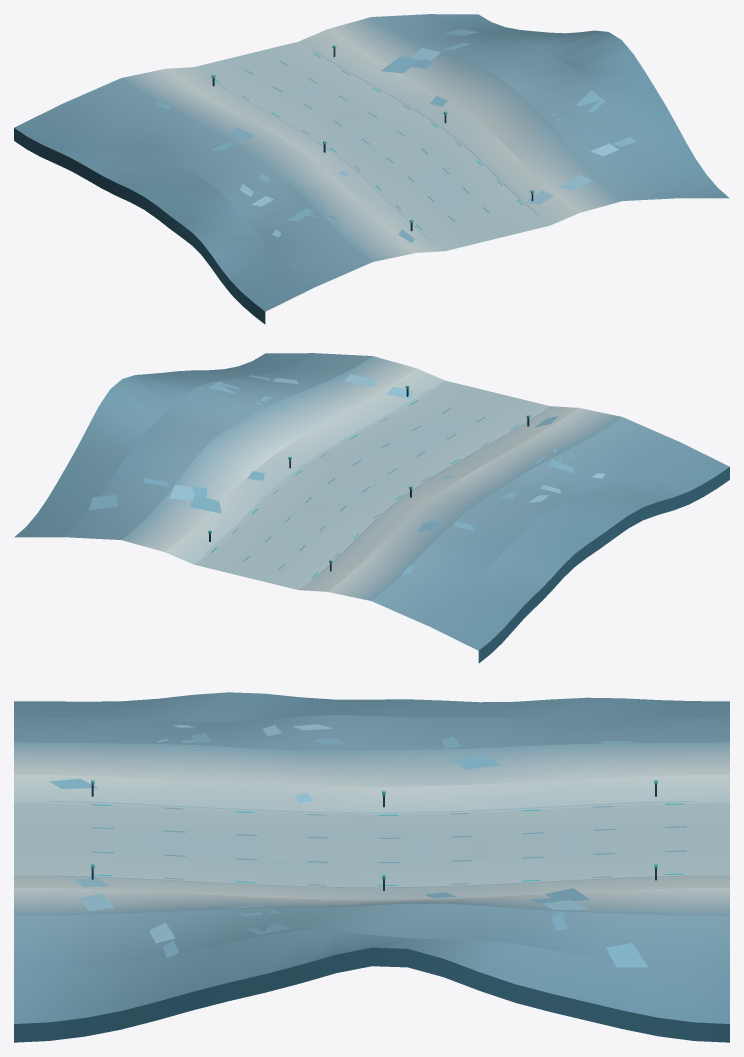
Rendered from 02-gentle_turn.glb.
The picture shows the model from 3 angles, top to bottom: view 1: azimuth 30°, elevation 25°; view 2: azimuth 150°, elevation 25°; view 3: azimuth 270°, elevation 25°; orthographic projection. The views are drawn at different scales.
Visible parts, largest first — view 1: gentle_turn; view 2: gentle_turn; view 3: gentle_turn.
Part boxes in pixels (x1,y1,x2,y2): gentle_turn: (14, 14, 729, 324); gentle_turn: (14, 353, 729, 663); gentle_turn: (14, 692, 729, 1042).
Size of the model in its own units: 33.2 by 4.95 by 30.
